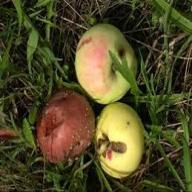apple: (72, 27, 136, 103), (36, 87, 94, 160), (96, 100, 149, 172)
